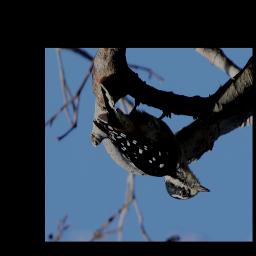Woodpecker: (91, 83, 213, 201)
